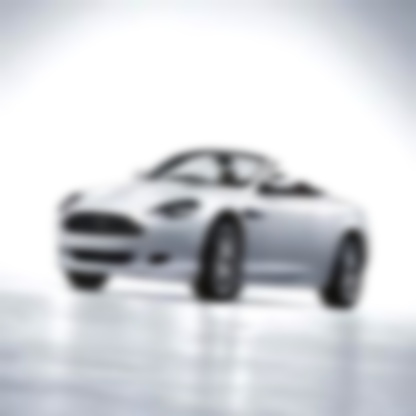Vehicle: (55, 146, 372, 311)
